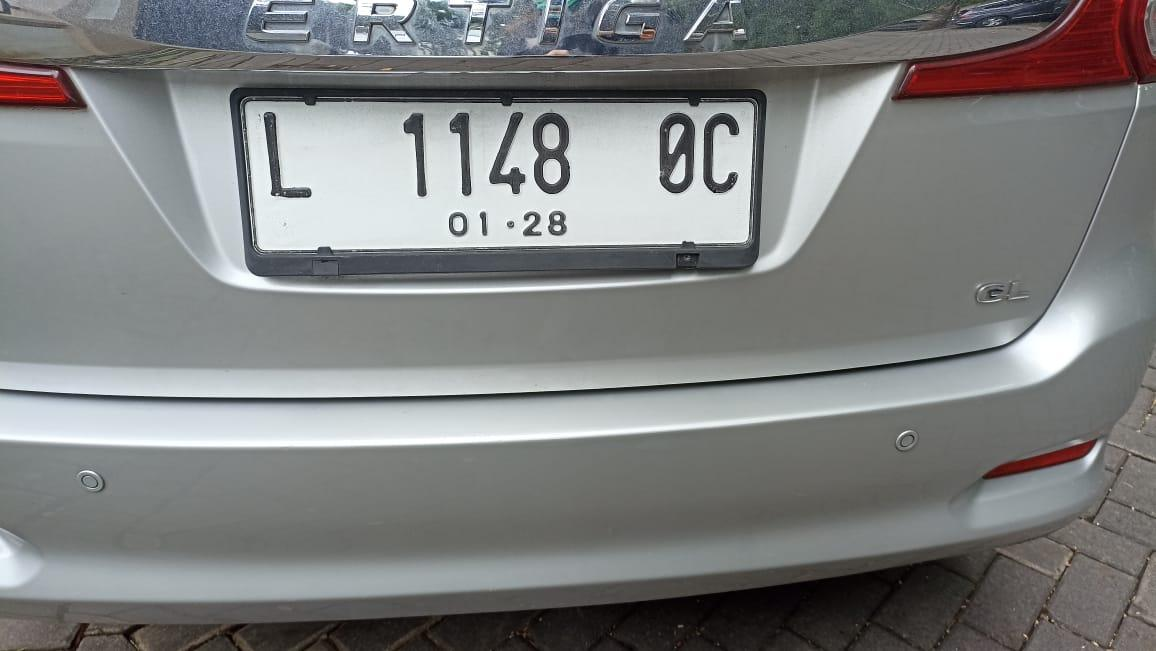plat: (235, 93, 763, 275)
